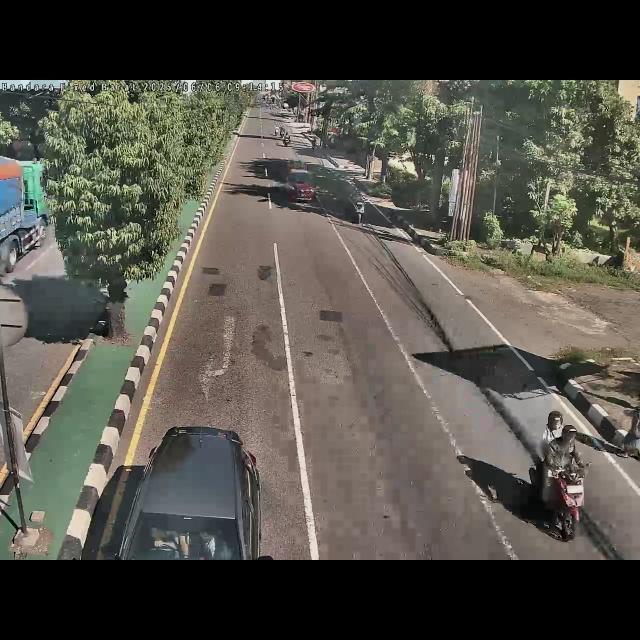Mobil: (119, 426, 263, 560), (284, 165, 318, 205)
Motor: (532, 410, 584, 540), (346, 187, 370, 223)
